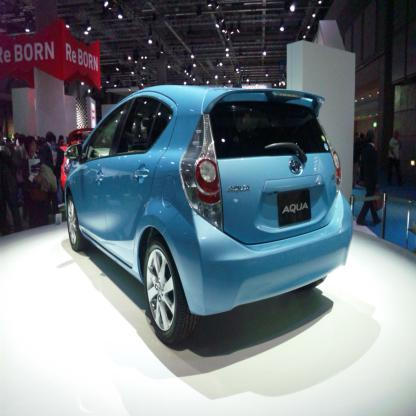Car: (65, 82, 356, 348), (66, 128, 94, 145)
